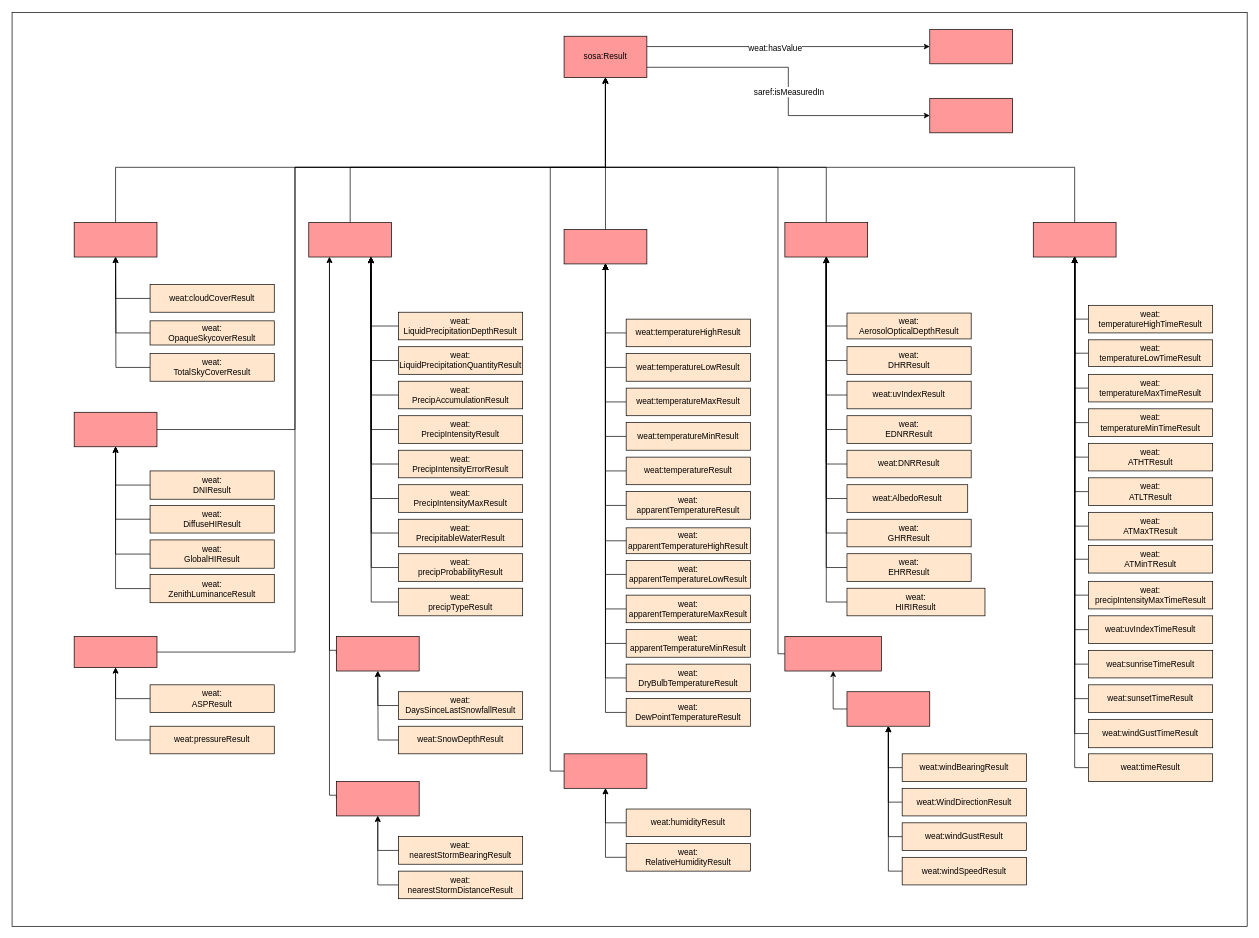
Image size: 1259x938. Some labels were removed from this diagram. Here are the shapes that lost their labels. From the top down, the centre of each, then its label:
the point at 971,46: xsd:float
the point at 971,115: saref:UnitOfMeasure
the point at 115,239: weat: SkyCoverResult
the point at 350,239: weat: PrecipitationResult
the point at 605,246: weat: TemperatureResult
the point at 826,239: weat: RadiationResult
the point at 1074,239: weat: TimeResult
the point at 115,429: weat: IlluminanceResult
the point at 115,652: weat: PressureResult
the point at 377,653: weat: SnowResult
the point at 832,653: weat: APResult
the point at 888,708: weat: WindResult
the point at 605,770: weat: HumidityResult
the point at 377,798: weat: StormResult
